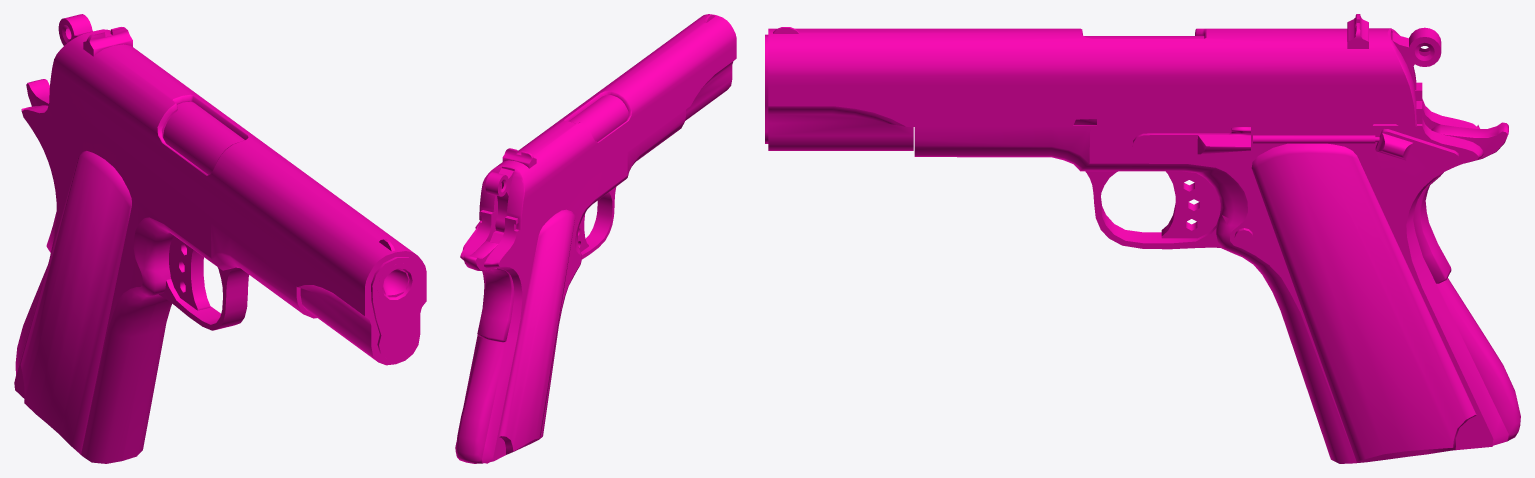
Rendered from Gun.fbx.
3 renders of one model, left to right at view 1: azimuth 30°, elevation 25°; view 2: azimuth 150°, elevation 25°; view 3: azimuth 270°, elevation 25°, orthographic. The views are drawn at different scales.
Parts seen in each view (by area): view 1: Mesh_0009, Slide, Trigger, Hammer; view 2: Mesh_0009, Slide, Hammer; view 3: Mesh_0009, Slide, Trigger, Hammer.
Part boxes in pixels (x1,y1,x2,y2): Mesh_0009: (14, 79, 417, 463); Slide: (49, 27, 426, 365); Trigger: (169, 236, 210, 310); Hammer: (58, 14, 92, 45); Mesh_0009: (455, 95, 685, 463); Slide: (479, 14, 736, 229); Hammer: (485, 168, 514, 232); Mesh_0009: (914, 36, 1520, 463); Slide: (765, 14, 1416, 150); Trigger: (1161, 171, 1220, 238); Hammer: (1391, 27, 1441, 71).
Bounding box in the file's own units: 0.7671 × 3.81 × 6.05.
